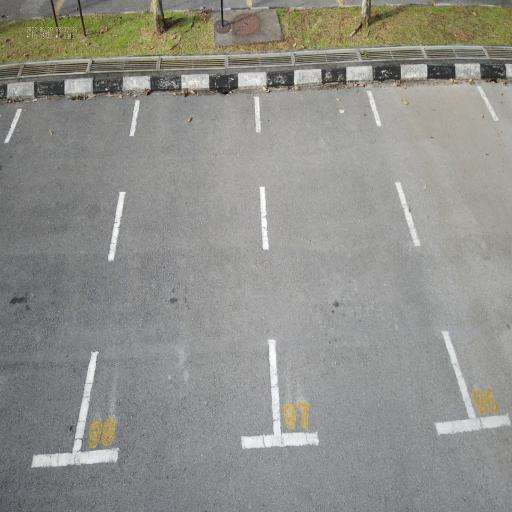Empty: (66, 84, 284, 472), (251, 86, 480, 450)
